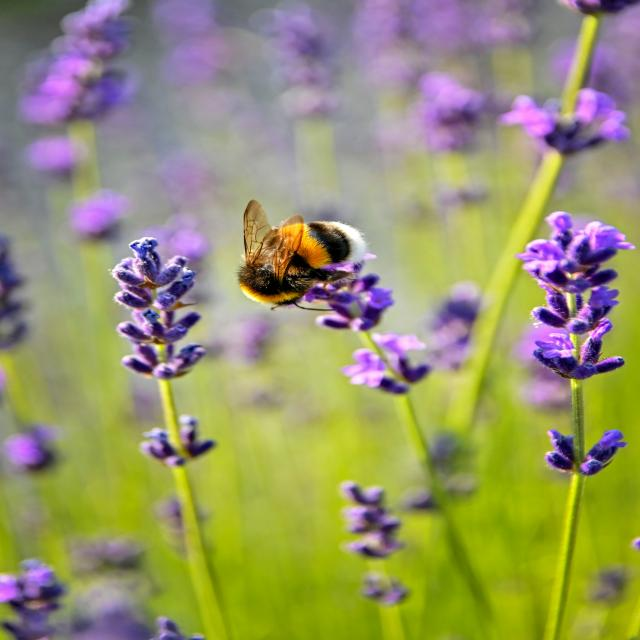bee: (232, 197, 375, 310)
